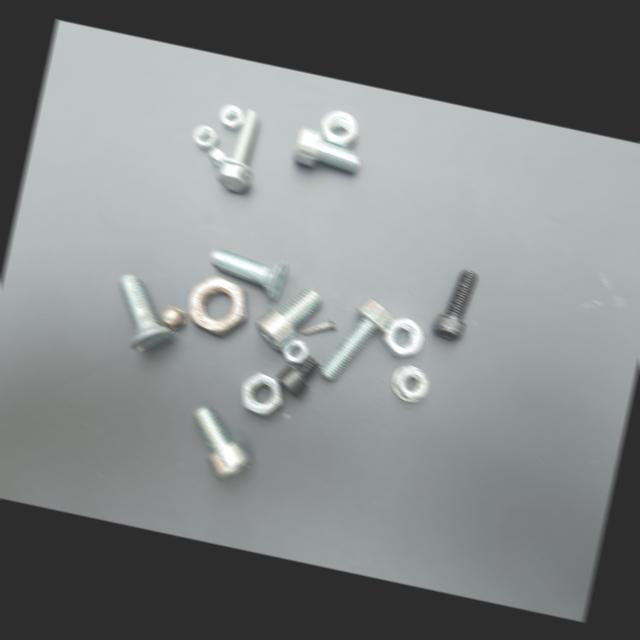bolt: (319, 298, 391, 379), (192, 405, 251, 479), (119, 274, 173, 350), (256, 288, 321, 350), (211, 248, 287, 299), (217, 109, 259, 191), (432, 269, 477, 339), (292, 127, 360, 173), (277, 356, 320, 395), (301, 318, 335, 334)
nuts: (189, 275, 246, 334), (242, 373, 281, 414), (380, 318, 423, 355), (391, 365, 428, 401), (321, 110, 357, 147), (193, 125, 218, 151), (281, 338, 308, 362), (220, 104, 243, 131), (161, 305, 186, 328), (208, 146, 227, 169)
